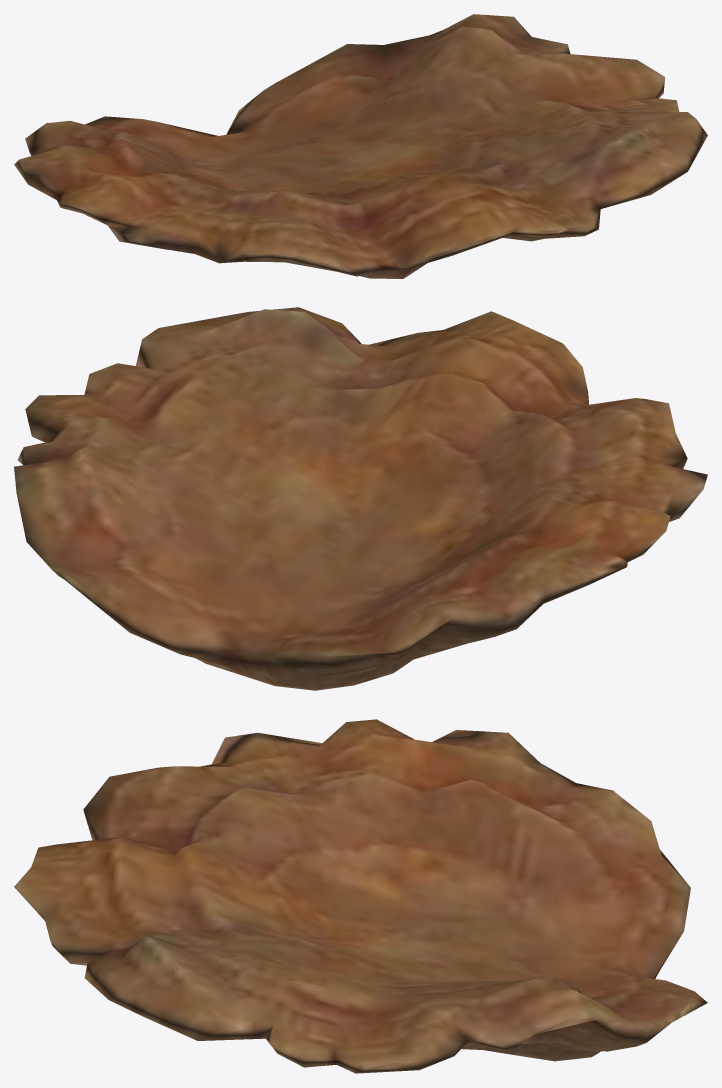
Rendered from Plant - Alien Mushroom Big5-BBCCjevc.glb.
3 views of the same model, one above another, from view 1: azimuth 30°, elevation 25°; view 2: azimuth 150°, elevation 25°; view 3: azimuth 270°, elevation 25° (orthographic). The views are drawn at different scales.
Visible parts, largest first — view 1: Mushroom_Big5(Clone); view 2: Mushroom_Big5(Clone); view 3: Mushroom_Big5(Clone).
Boxes of the visible parts, x1=… form: Mushroom_Big5(Clone): x1=14, y1=14, x2=707, y2=278; Mushroom_Big5(Clone): x1=14, y1=307, x2=707, y2=690; Mushroom_Big5(Clone): x1=14, y1=719, x2=707, y2=1073.
Size of the model in its own units: 0.9171 by 0.2553 by 0.8222.
Materials: 1 (1 with a texture image).
